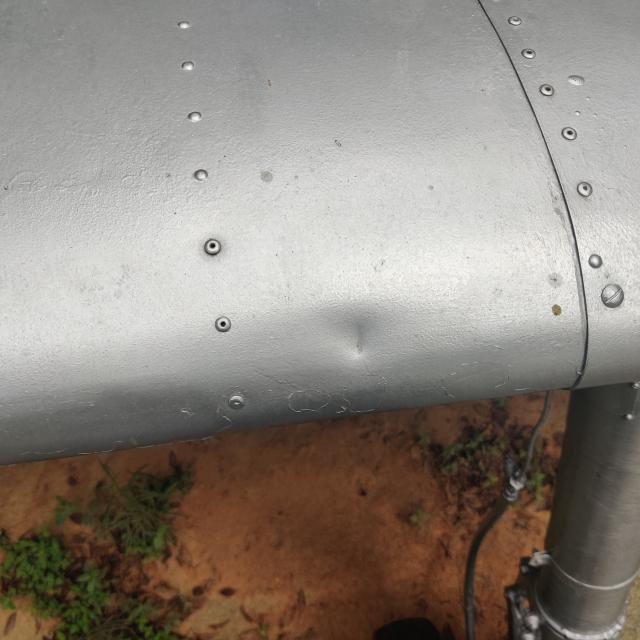dent: (307, 281, 412, 382)
